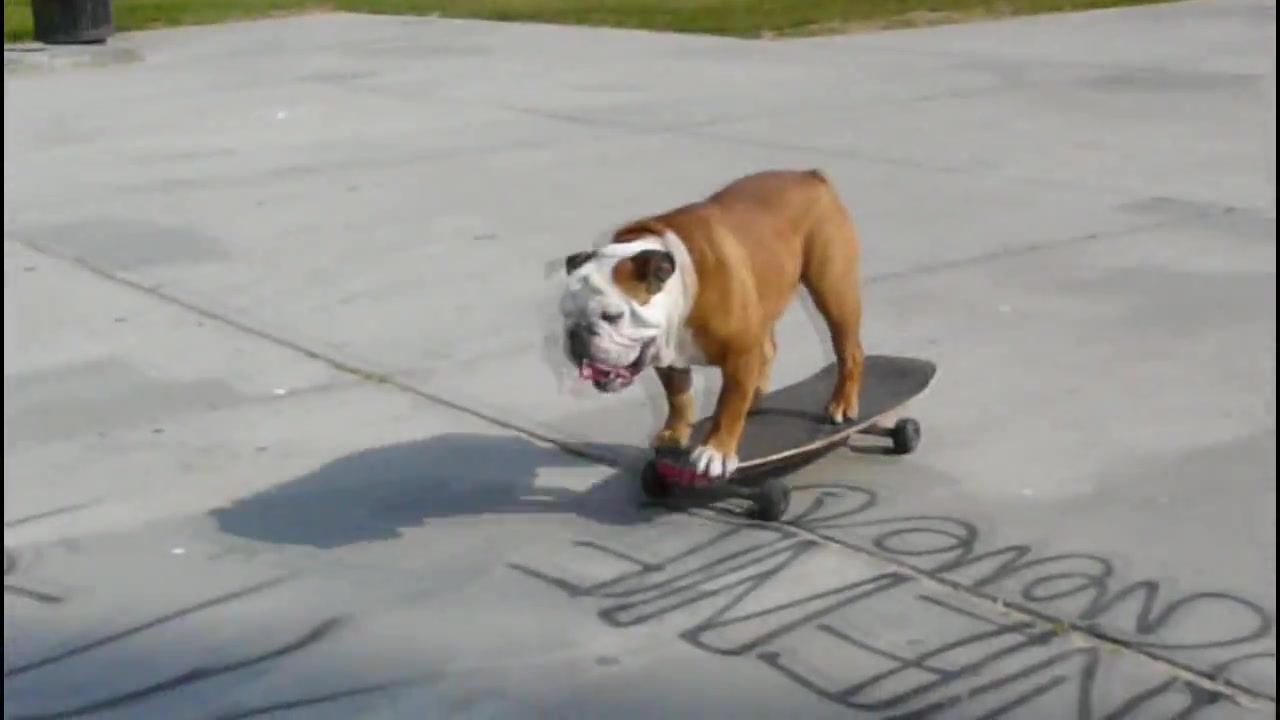dog: (557, 158, 874, 481)
